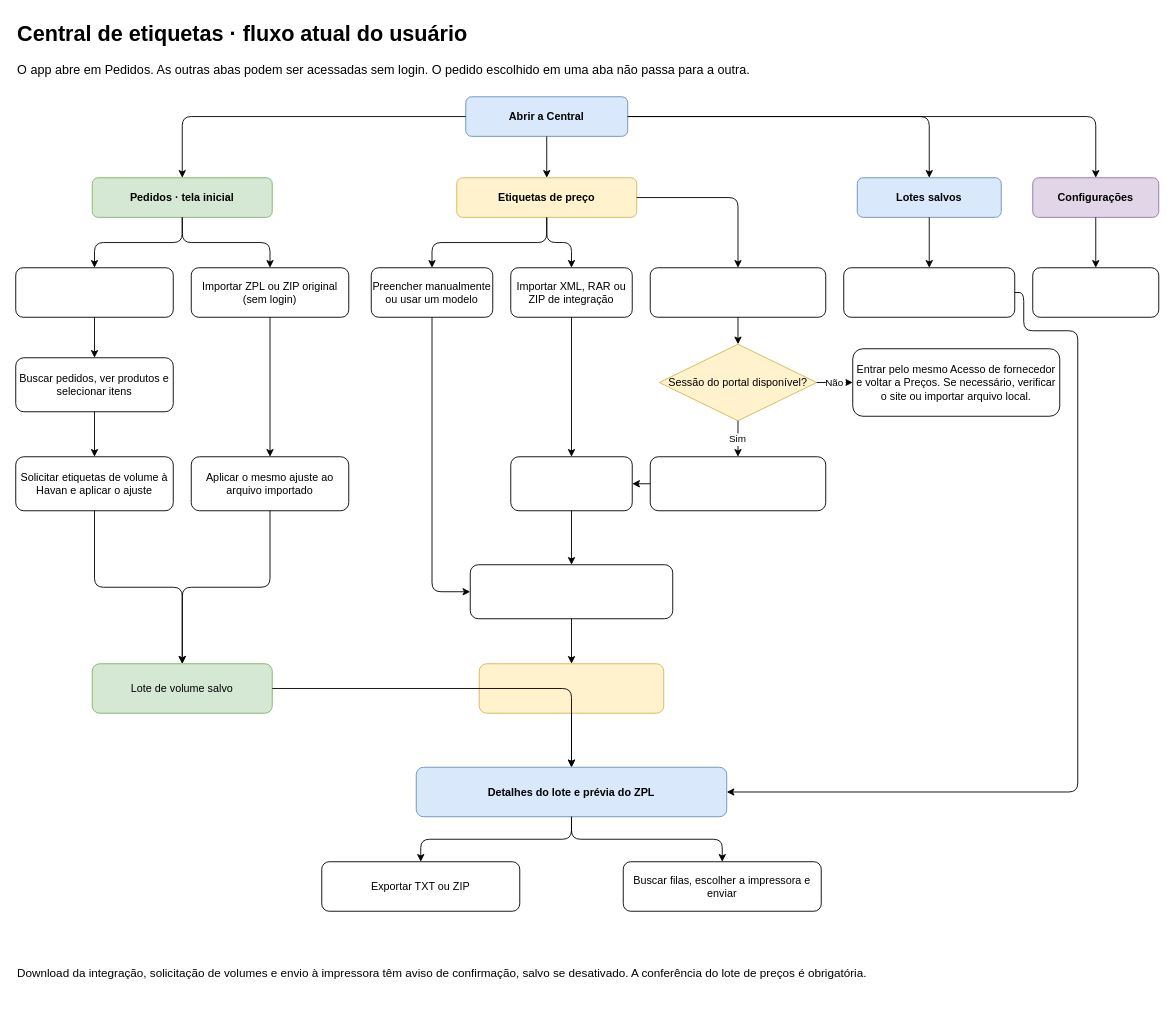
Some shapes in this 1175 by 1012 pixel diagram are drawn without their labels. Here are the shapes that lost their labels. From the top down, the box of each, then its label:
(15, 267, 173, 317): Acesso de fornecedor CNPJ e senha
(649, 267, 826, 317): Buscar integração pelo portal da Havan
(843, 267, 1015, 317): Abrir um lote existente (sem consultar a Havan)
(1032, 267, 1159, 317): Aparência e avisos de confirmação
(510, 456, 632, 511): Revisar dados e selecionar variações do XML
(649, 456, 826, 511): Consultar portal, escolher pedido e ler integração
(469, 564, 673, 619): Adicionar ao lote, conferir EAN, preço e quantidade e gerar
(478, 663, 664, 713): Lote de preço salvo
